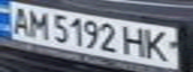1: (66, 15, 84, 47)
2: (96, 20, 121, 54)
5: (48, 11, 72, 44)
9: (81, 17, 103, 51)
A: (3, 3, 33, 36)
H: (121, 24, 148, 58)
K: (142, 27, 175, 63)
M: (21, 8, 51, 39)
